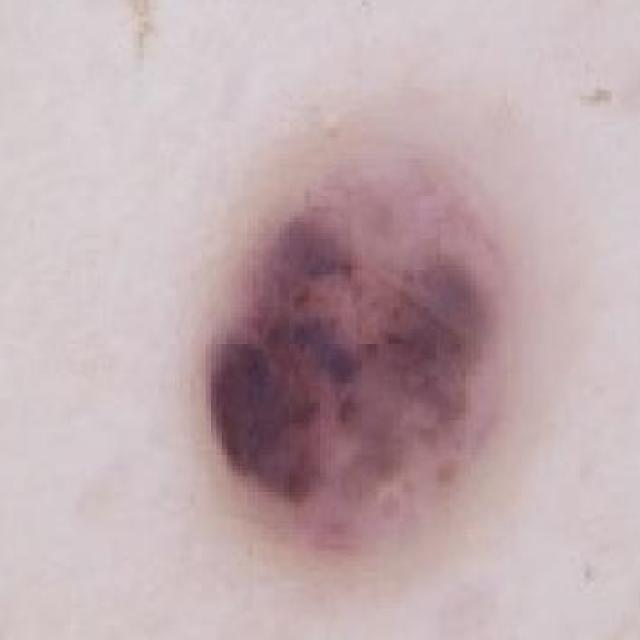BCC: (152, 29, 547, 640)
